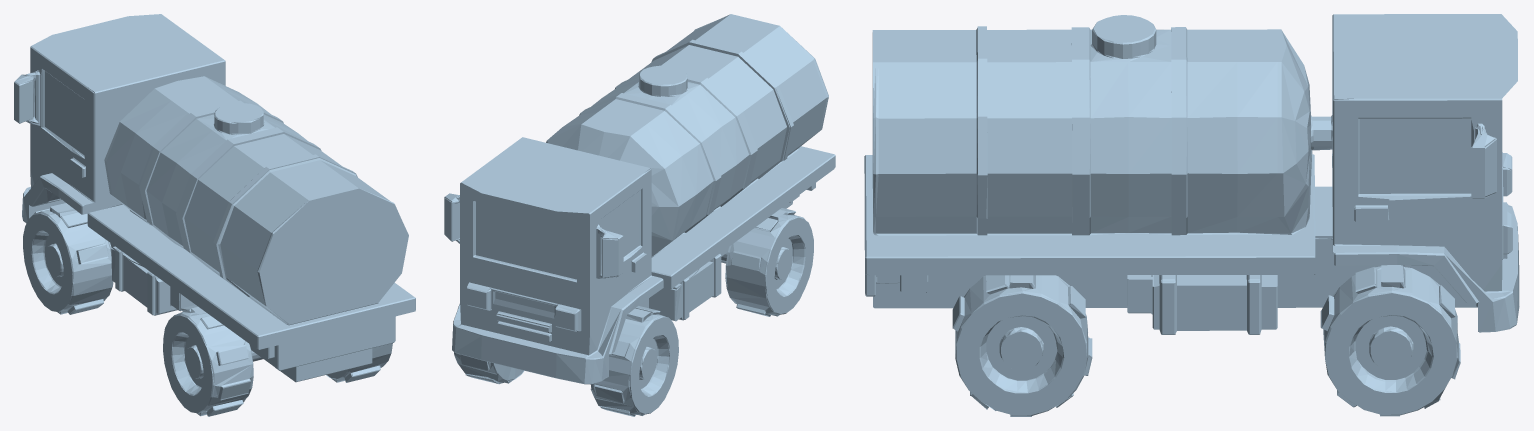
File: TankTruck.glb
3 renders of one model, left to right at view 1: azimuth 30°, elevation 25°; view 2: azimuth 150°, elevation 25°; view 3: azimuth 270°, elevation 25°, orthographic. The views are drawn at different scales.
Parts seen in each view (by area): view 1: Mesh1.0; view 2: Mesh1.0; view 3: Mesh1.0.
Part boxes in pixels (x1,y1,x2,y2): Mesh1.0: (14, 14, 415, 416); Mesh1.0: (444, 14, 835, 416); Mesh1.0: (864, 14, 1519, 416).
Size of the model in its own units: 0.815 by 1.08 by 1.91.
